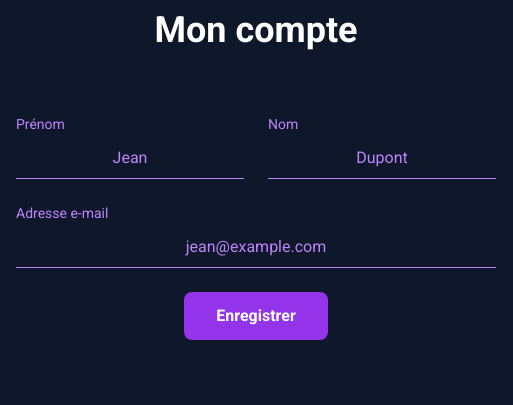
Test: Account › met à jour le profil avec succès
Step 1. Replace the text in the field with placeholder "Prénom" with "Jeanne" → (130, 158), box [16,138,244,179]
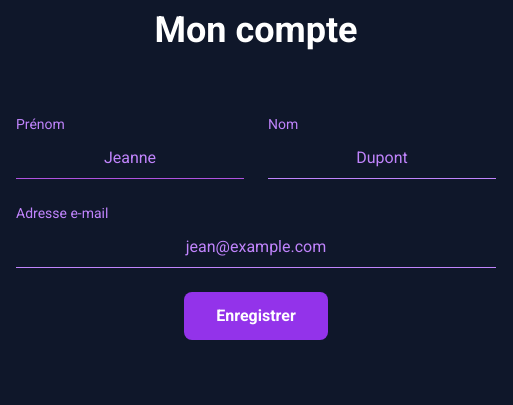
Step 2. Click the button "Enregistrer" → (256, 316), box [184,292,328,340]
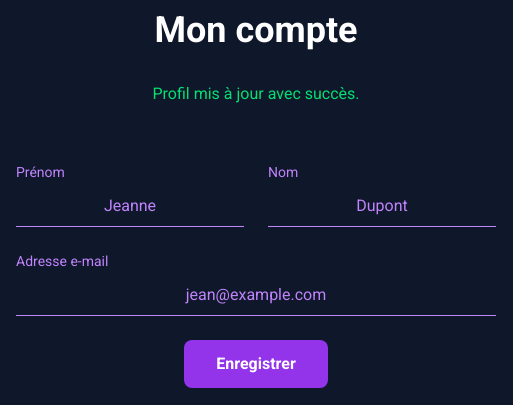
Expected: the message reads "Profil mis à jour avec succès.", [152,84,360,103]
